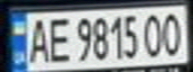1: (109, 12, 127, 61)
5: (121, 11, 142, 60)
8: (90, 12, 112, 61)
9: (72, 14, 93, 62)
A: (24, 15, 51, 64)
E: (45, 13, 72, 64)
O: (139, 9, 166, 58), (160, 9, 187, 57)
